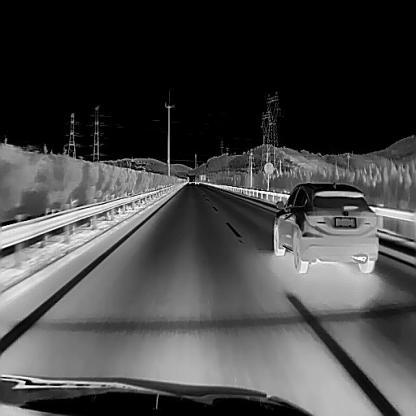car: (273, 182, 378, 272), (194, 175, 199, 184)
